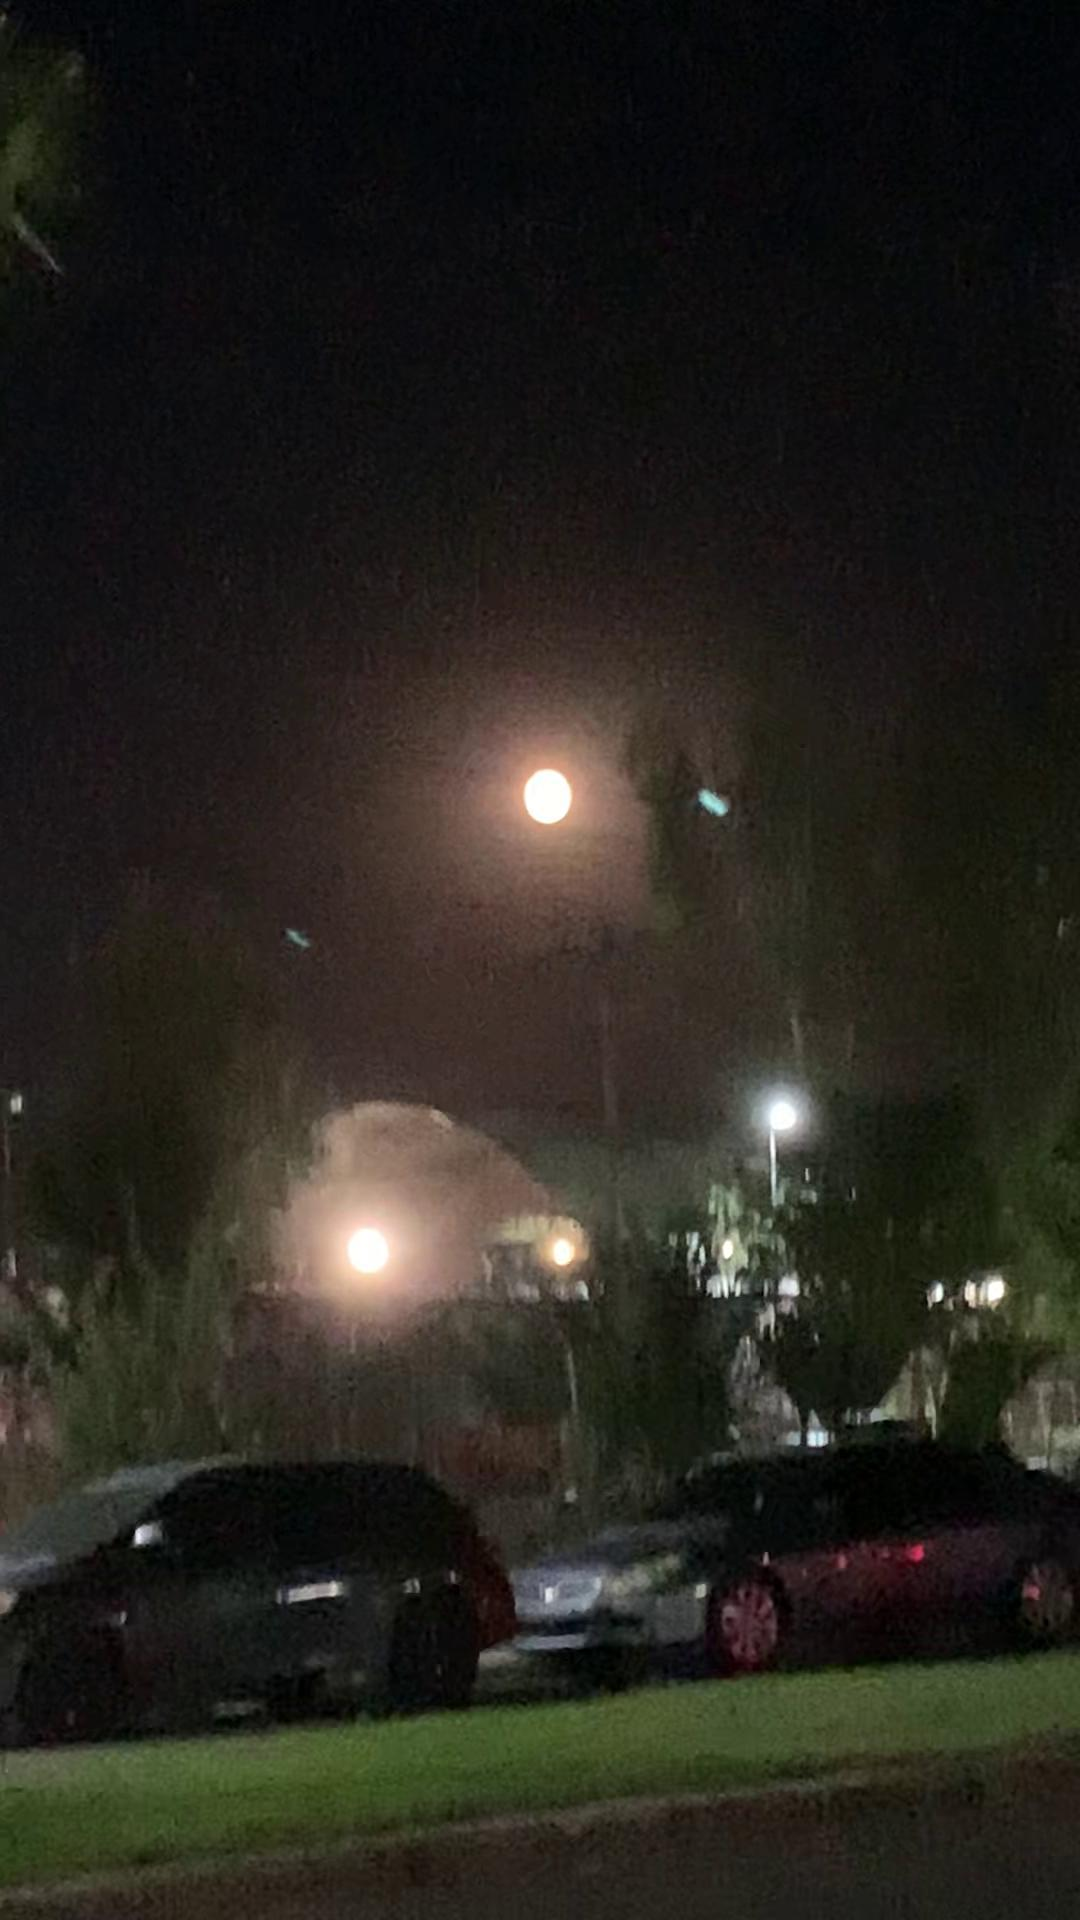moon: (507, 740, 596, 816)
